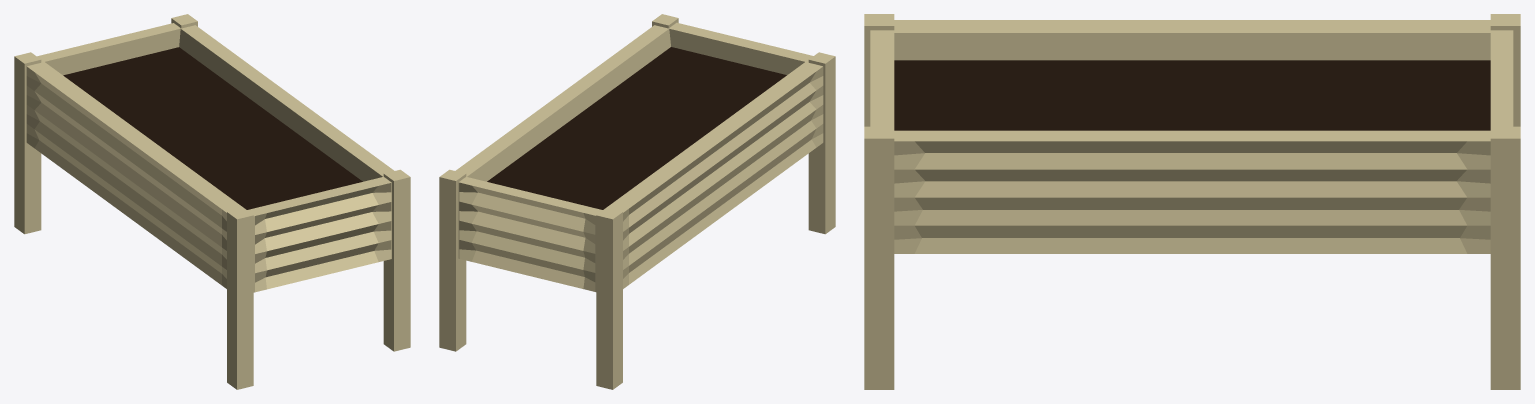
File: FlowerBedEmpty.fbx
The picture shows the model from 3 angles, left to right: view 1: azimuth 30°, elevation 25°; view 2: azimuth 150°, elevation 25°; view 3: azimuth 270°, elevation 25°; orthographic projection. The views are drawn at different scales.
Parts seen in each view (by area): view 1: Cube.001, Cube, Cube.005, Cube.002, Cube.004; view 2: Cube.001, Cube, Cube.004, Cube.003, Cube.005; view 3: Cube.001, Cube, Cube.002, Cube.003, Cube.004, Cube.005.
Boxes of the visible parts, box(x1,y1,x2,y2) form: Cube.001: box(26, 23, 394, 292); Cube: box(63, 47, 362, 209); Cube.005: box(227, 208, 253, 389); Cube.002: box(383, 169, 410, 351); Cube.004: box(14, 52, 41, 234); Cube.001: box(455, 22, 823, 291); Cube: box(487, 47, 786, 209); Cube.004: box(596, 208, 622, 389); Cube.003: box(439, 169, 466, 351); Cube.005: box(808, 52, 835, 234); Cube.001: box(870, 20, 1513, 253); Cube: box(894, 60, 1490, 130); Cube.002: box(864, 126, 894, 389); Cube.003: box(1490, 126, 1520, 389); Cube.004: box(1490, 14, 1520, 126); Cube.005: box(864, 14, 894, 126).
Bounding box in the file's own units: 417 × 392 × 928.
